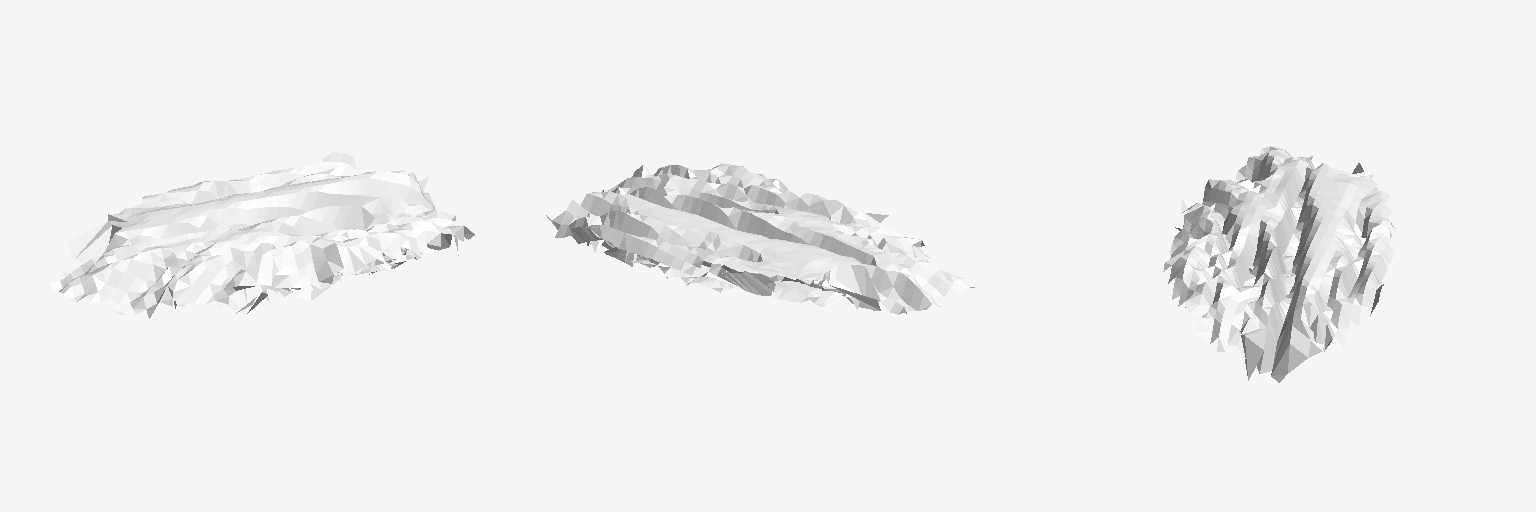
Rendered from KBr_on-spoon.obj.
3 renders of one model, left to right at view 1: azimuth 30°, elevation 25°; view 2: azimuth 150°, elevation 25°; view 3: azimuth 270°, elevation 25°, orthographic.
Visible parts, largest first — view 1: Plane001; view 2: Plane001; view 3: Plane001.
Part boxes in pixels (x1,y1,x2,y2): Plane001: (50,152,475,318); Plane001: (546,163,974,314); Plane001: (1163,146,1396,382).
Bounding box in the file's own units: 16.43 × 3.12 × 8.36.